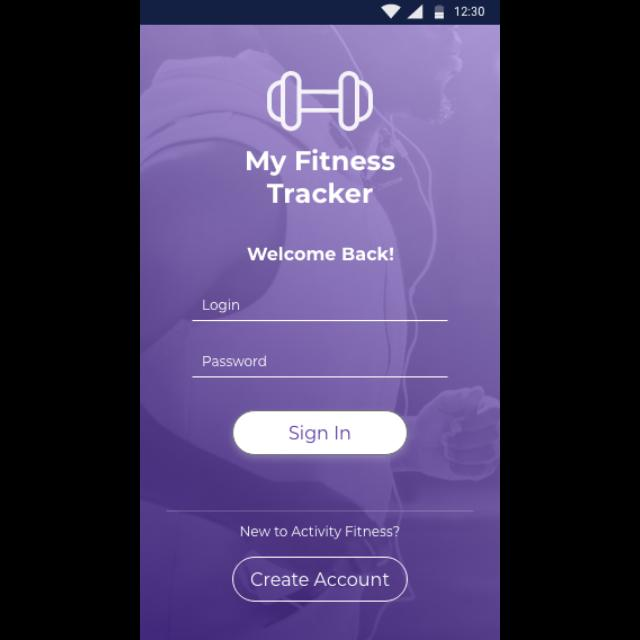backgroundimage: (142, 26, 500, 640)
image: (268, 72, 374, 132)
input: (192, 298, 450, 322), (192, 356, 450, 378)
text: (248, 149, 397, 205), (240, 524, 402, 540), (247, 246, 395, 262), (203, 355, 267, 367), (203, 298, 240, 314)
textbutton: (233, 556, 409, 602), (234, 410, 408, 456)
uppertaskbar: (142, 2, 500, 26)
